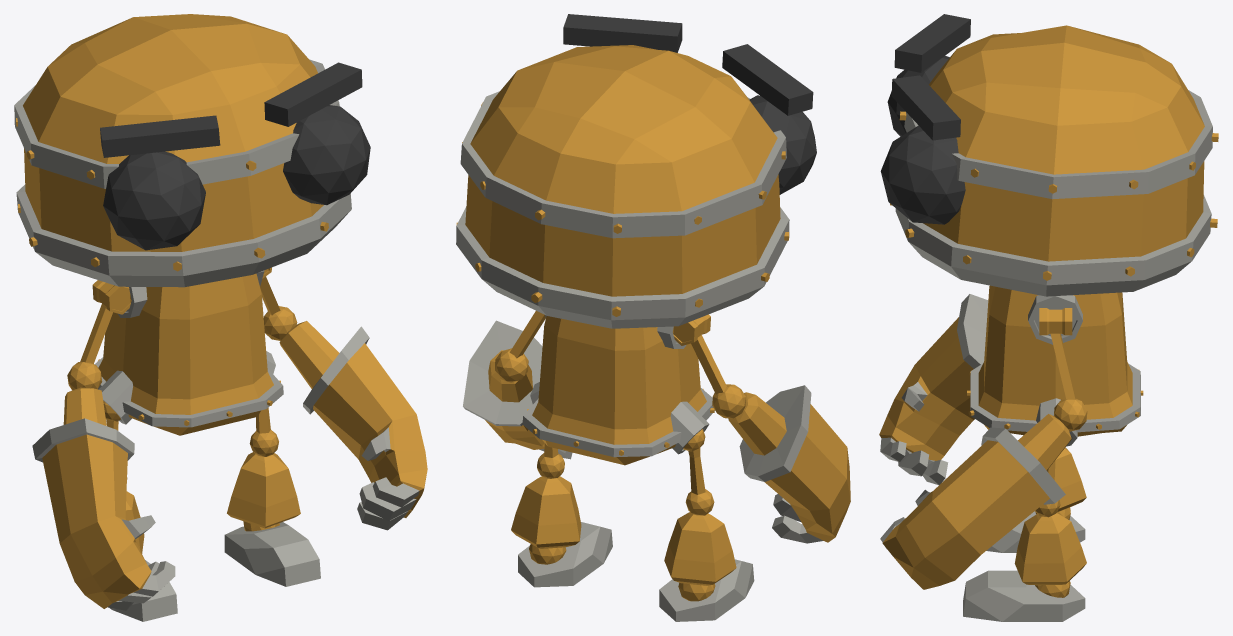
Rendered from Robot.gltf.
3 views of the same model, side by side, from view 1: azimuth 30°, elevation 25°; view 2: azimuth 150°, elevation 25°; view 3: azimuth 270°, elevation 25° (orthographic).
Visible parts, largest first — view 1: Head_Cylinder, Torso_Cube.001, Hand.R_Cylinder.015, Hand.L_Cylinder.022, Foot.L_Cylinder.014, LowerLeg.L_Cylinder.012, Arm.R_Cylinder.013, Foot.R_Cylinder.017, Arm.L_Cylinder.010, Shoulder.R_Cylinder.009, Leg.L_Cylinder.011; view 2: Head_Cylinder, Torso_Cube.001, Hand.R_Cylinder.015, Hand.L_Cylinder.022, LowerLeg.R_Cylinder.018, LowerLeg.L_Cylinder.012, Foot.L_Cylinder.014, Foot.R_Cylinder.017, Arm.R_Cylinder.013, Arm.L_Cylinder.010, Leg.R_Cylinder.019, Shoulder.R_Cylinder.009 (+1 smaller); view 3: Head_Cylinder, Torso_Cube.001, Hand.L_Cylinder.022, Hand.R_Cylinder.015, Foot.L_Cylinder.014, LowerLeg.L_Cylinder.012, Arm.L_Cylinder.010, LowerLeg.R_Cylinder.018, Shoulder.L_Cylinder.008, Foot.R_Cylinder.017.
Part boxes in pixels (bbox=[...]): Head_Cylinder: bbox=[14, 14, 370, 287]; Torso_Cube.001: bbox=[94, 270, 283, 435]; Hand.R_Cylinder.015: bbox=[32, 387, 175, 610]; Hand.L_Cylinder.022: bbox=[279, 321, 427, 530]; Foot.L_Cylinder.014: bbox=[224, 522, 320, 586]; LowerLeg.L_Cylinder.012: bbox=[227, 452, 300, 531]; Arm.R_Cylinder.013: bbox=[67, 303, 112, 390]; Foot.R_Cylinder.017: bbox=[109, 560, 177, 621]; Arm.L_Cylinder.010: bbox=[260, 276, 297, 340]; Shoulder.R_Cylinder.009: bbox=[92, 280, 131, 314]; Leg.L_Cylinder.011: bbox=[249, 407, 278, 456]; Head_Cylinder: bbox=[456, 14, 816, 328]; Torso_Cube.001: bbox=[522, 315, 714, 465]; Hand.R_Cylinder.015: bbox=[728, 385, 850, 543]; Hand.L_Cylinder.022: bbox=[463, 320, 572, 459]; LowerLeg.R_Cylinder.018: bbox=[664, 512, 736, 601]; LowerLeg.L_Cylinder.012: bbox=[511, 476, 581, 564]; Foot.L_Cylinder.014: bbox=[518, 522, 612, 587]; Foot.R_Cylinder.017: bbox=[659, 559, 754, 621]; Arm.R_Cylinder.013: bbox=[691, 335, 745, 418]; Arm.L_Cylinder.010: bbox=[495, 311, 545, 382]; Leg.R_Cylinder.019: bbox=[685, 447, 714, 515]; Shoulder.R_Cylinder.009: bbox=[672, 314, 710, 345]; Head_Cylinder: bbox=[880, 14, 1218, 296]; Torso_Cube.001: bbox=[967, 285, 1143, 446]; Hand.L_Cylinder.022: bbox=[880, 414, 1071, 589]; Hand.R_Cylinder.015: bbox=[879, 294, 988, 485]; Foot.L_Cylinder.014: bbox=[963, 570, 1085, 621]; LowerLeg.L_Cylinder.012: bbox=[1014, 513, 1086, 597]; Arm.L_Cylinder.010: bbox=[1050, 333, 1087, 431]; LowerLeg.R_Cylinder.018: bbox=[1035, 447, 1086, 519]; Shoulder.L_Cylinder.008: bbox=[1039, 308, 1072, 335]; Foot.R_Cylinder.017: bbox=[986, 511, 1085, 552].
Bounding box in the file's own units: 3.1 × 4.5 × 2.63.
